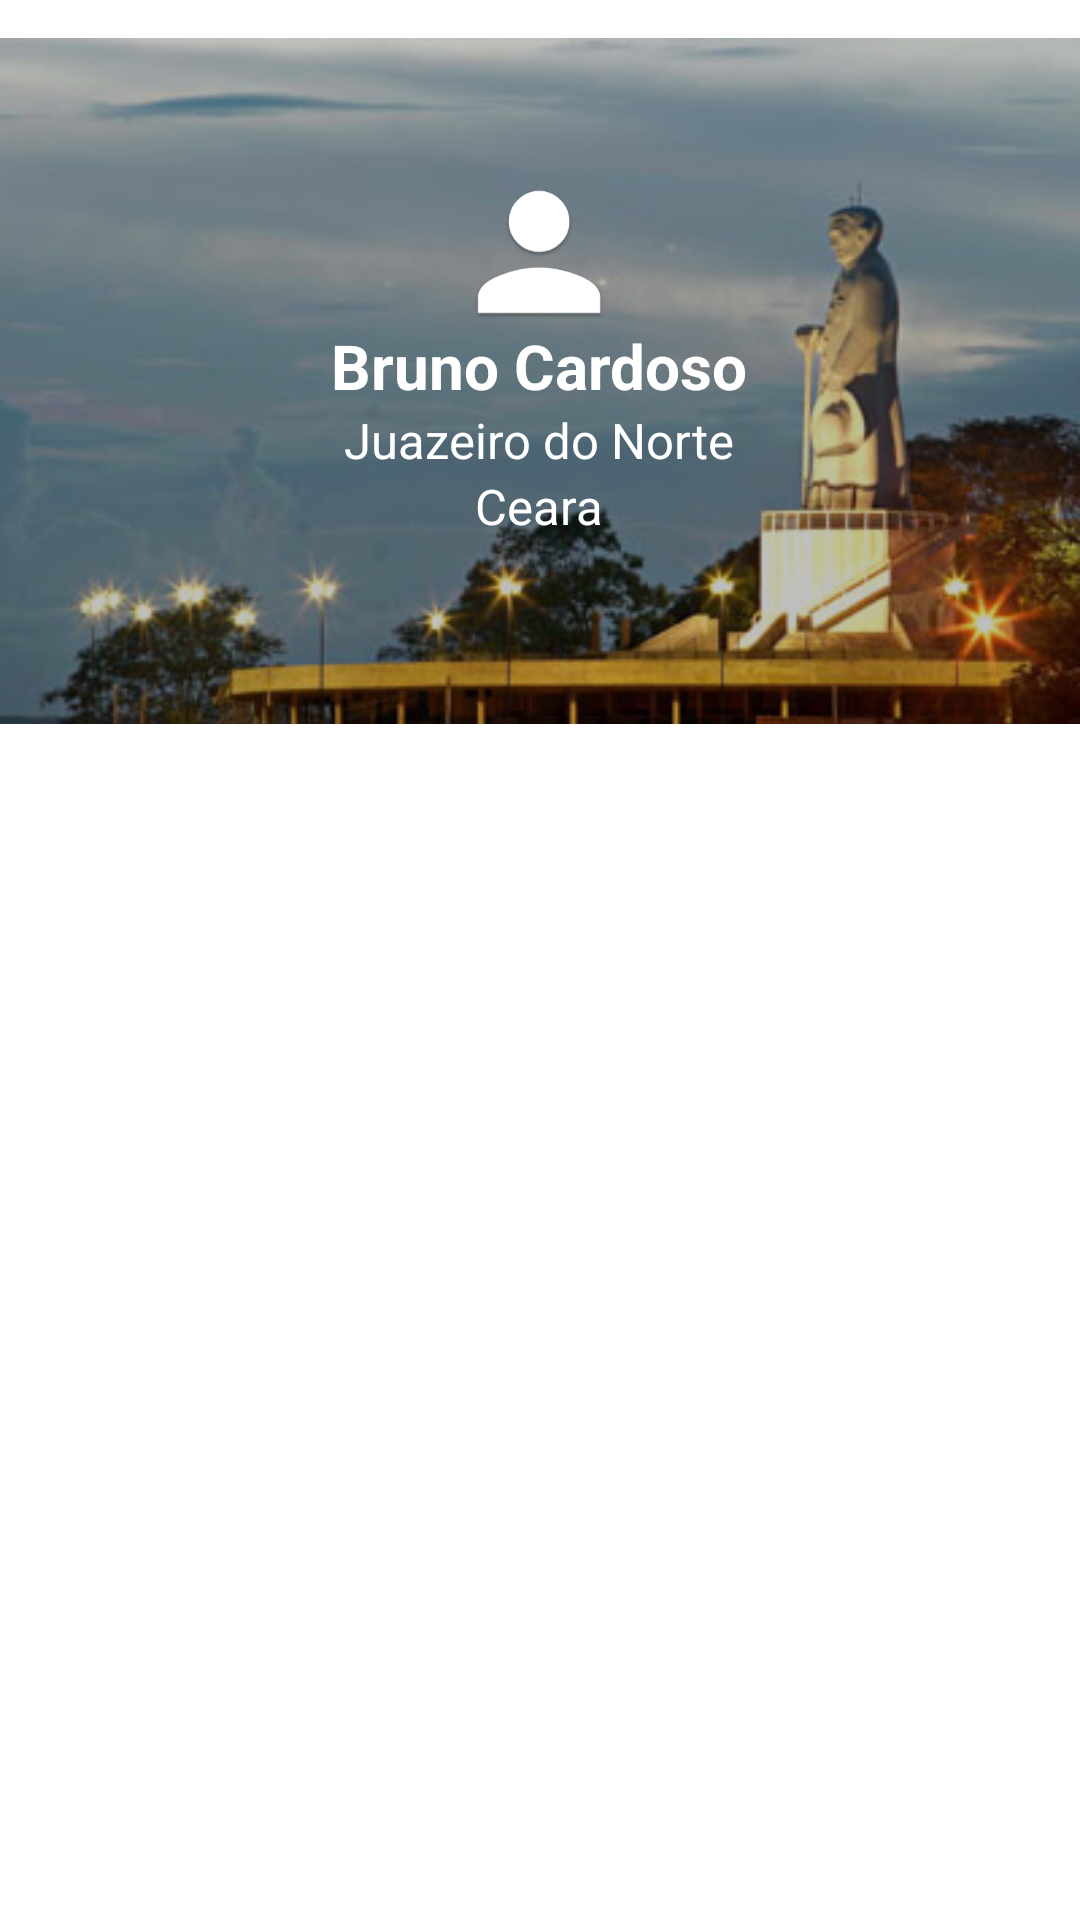

Where to tap for icons on this 1080*1920 app screen, as point (x, y):
profile: point (539, 252)
